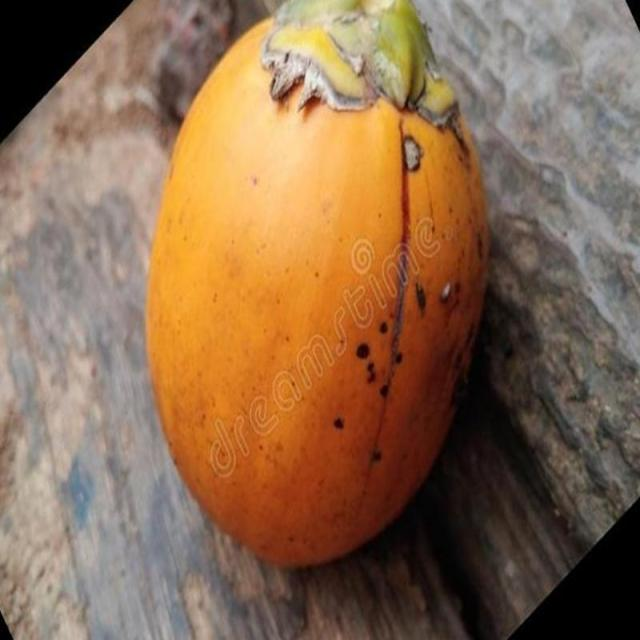good: (144, 0, 491, 572)
